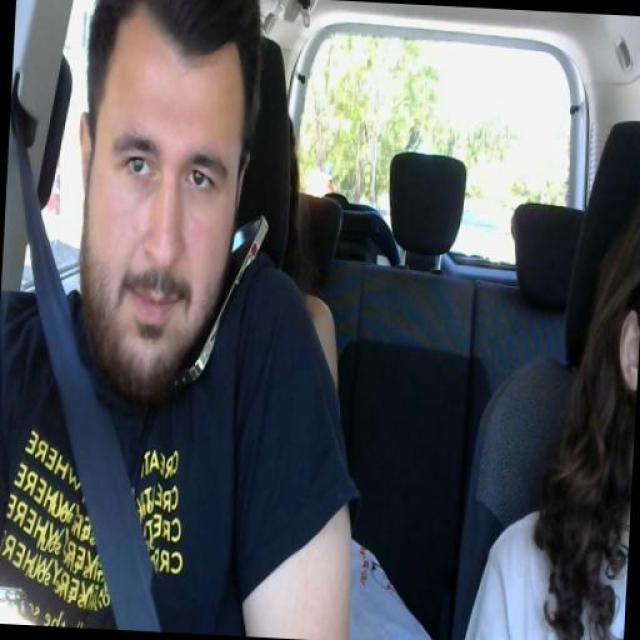phone: (174, 212, 272, 382)
